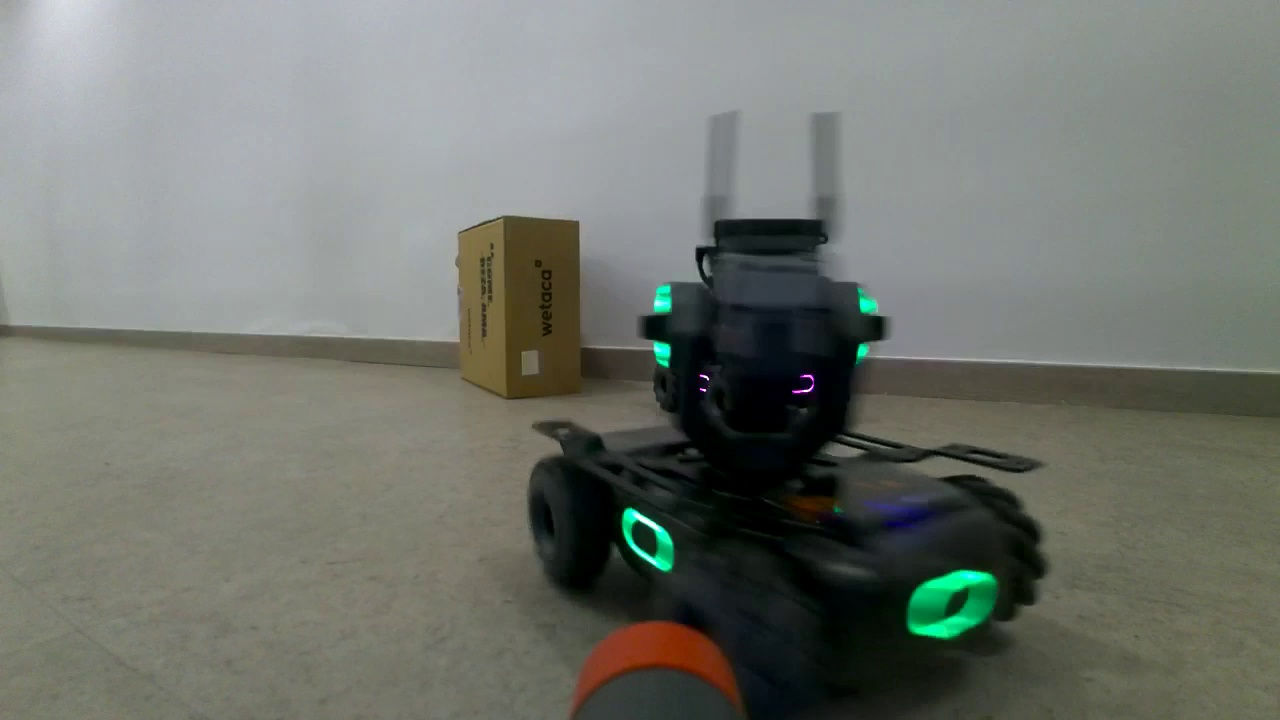robot: (525, 215, 1050, 706)
